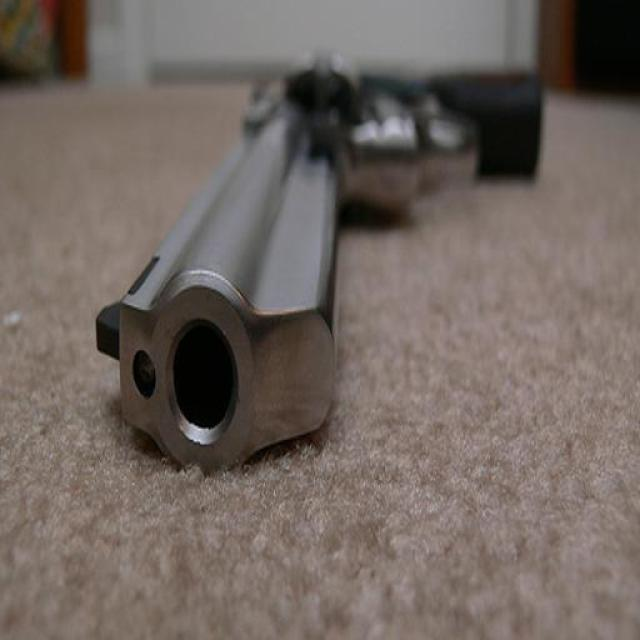pistol: (84, 61, 543, 452)
